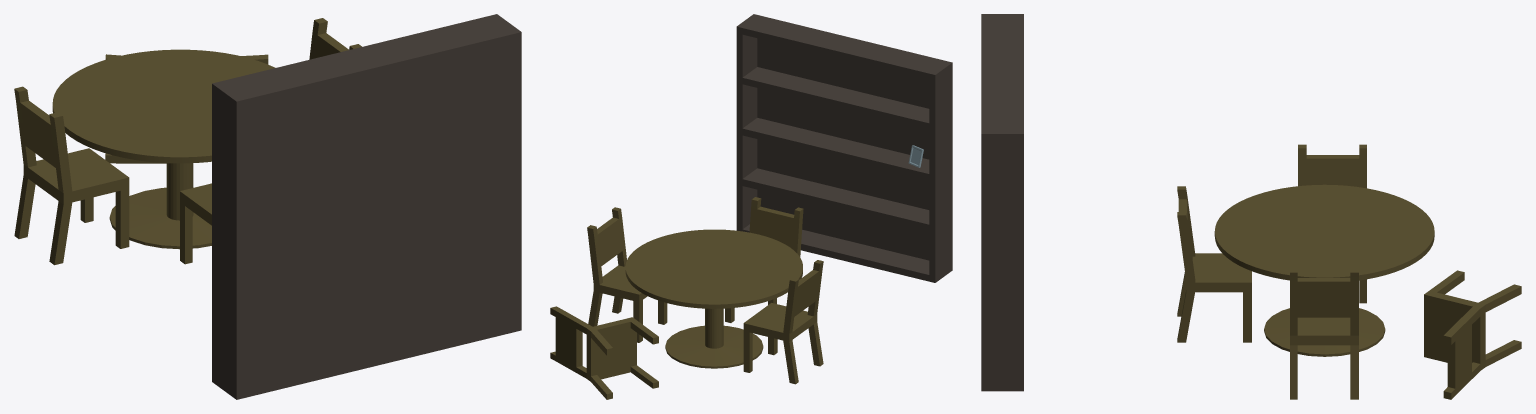
Rendered from dining_GRP.fbx.
The picture shows the model from 3 angles, left to right: view 1: azimuth 30°, elevation 25°; view 2: azimuth 150°, elevation 25°; view 3: azimuth 270°, elevation 25°; orthographic projection. The views are drawn at different scales.
Visible parts, largest first — view 1: door5, pCylinder1, door16, door14, door15, door17; view 2: door5, pCylinder1, door17, door16, door15, door14; view 3: pCylinder1, door5, door17, door15, door14, door16.
Part boxes in pixels (x1,y1,x2,y2): door5: [212, 14, 521, 399]; pCylinder1: [52, 49, 275, 249]; door16: [14, 86, 129, 265]; door14: [180, 183, 211, 264]; door15: [309, 18, 361, 59]; door17: [105, 54, 268, 163]; door5: [736, 14, 952, 282]; pCylinder1: [625, 229, 802, 368]; door17: [550, 306, 658, 399]; door16: [743, 260, 823, 384]; door15: [587, 207, 667, 342]; door14: [725, 197, 803, 322]; pCylinder1: [1214, 184, 1434, 356]; door5: [981, 14, 1023, 391]; door17: [1424, 270, 1521, 399]; door15: [1290, 269, 1358, 399]; door14: [1177, 186, 1251, 342]; door16: [1298, 144, 1366, 303].
Size of the model in its own units: 21.41 by 20.06 by 38.07.
